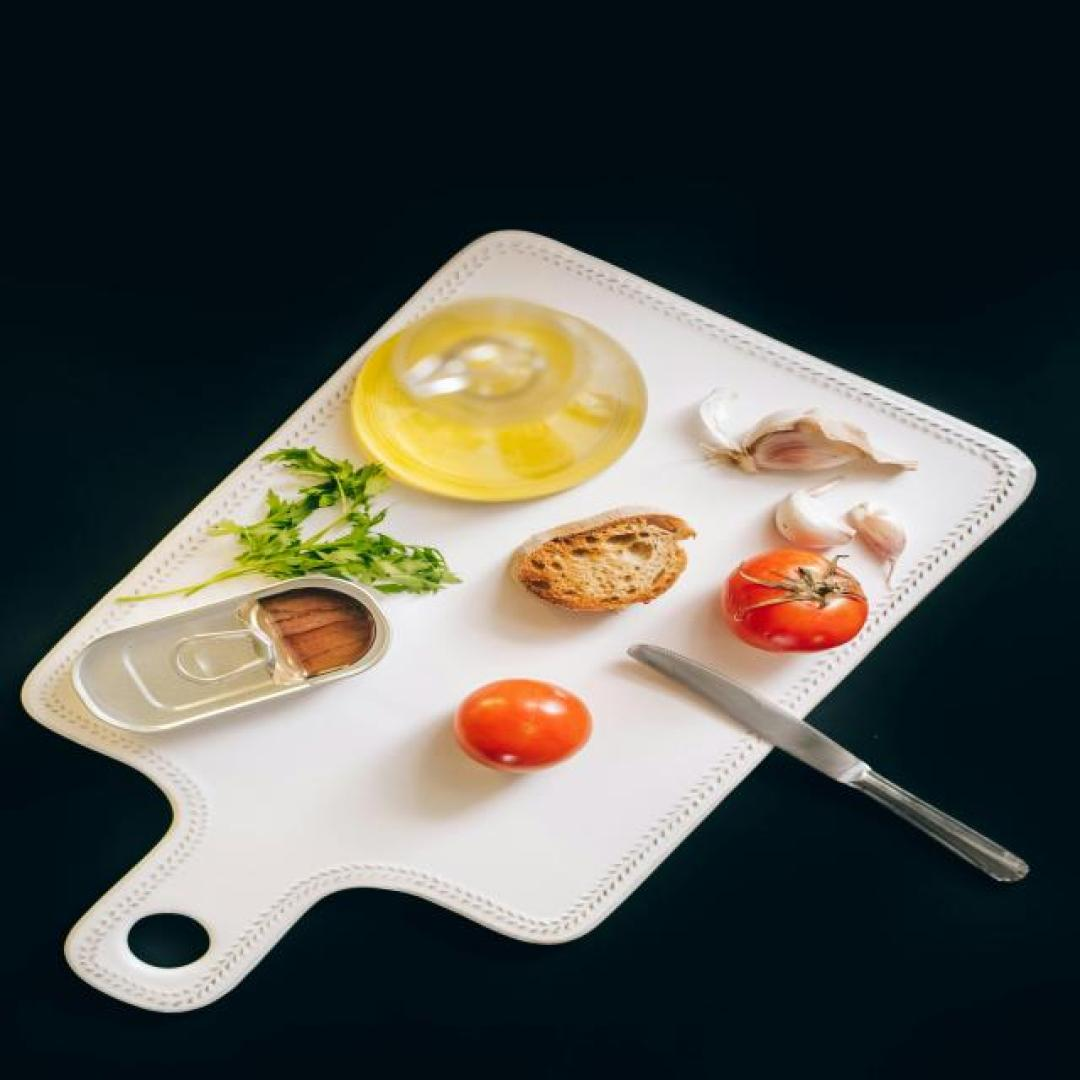matang: (720, 550, 870, 655), (454, 680, 594, 773)
